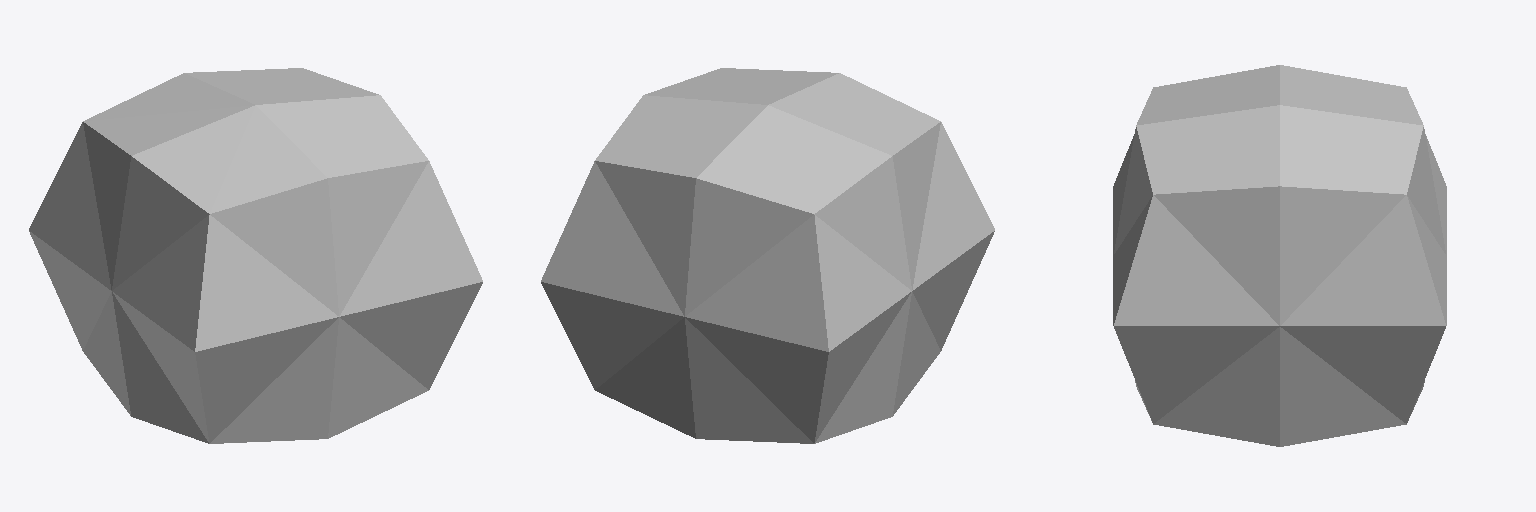
File: testi.obj
The picture shows the model from 3 angles: view 1: azimuth 30°, elevation 25°; view 2: azimuth 150°, elevation 25°; view 3: azimuth 270°, elevation 25°; orthographic projection.
Parts seen in each view (by area): view 1: Cube; view 2: Cube; view 3: Cube.
Boxes of the visible parts, x1,y1,x2,y2 form: Cube: [29, 68, 482, 443]; Cube: [541, 68, 994, 443]; Cube: [1113, 65, 1446, 446].
Size of the model in its own units: 2.23 by 2.23 by 2.23.